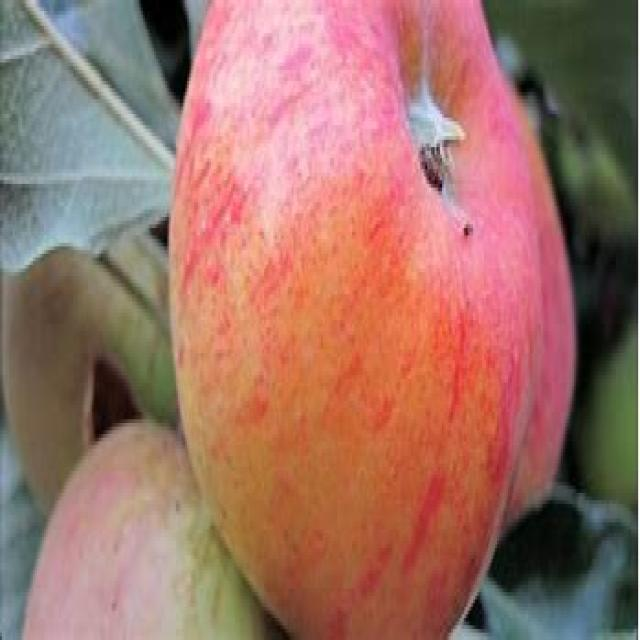apple: (167, 2, 545, 640)
